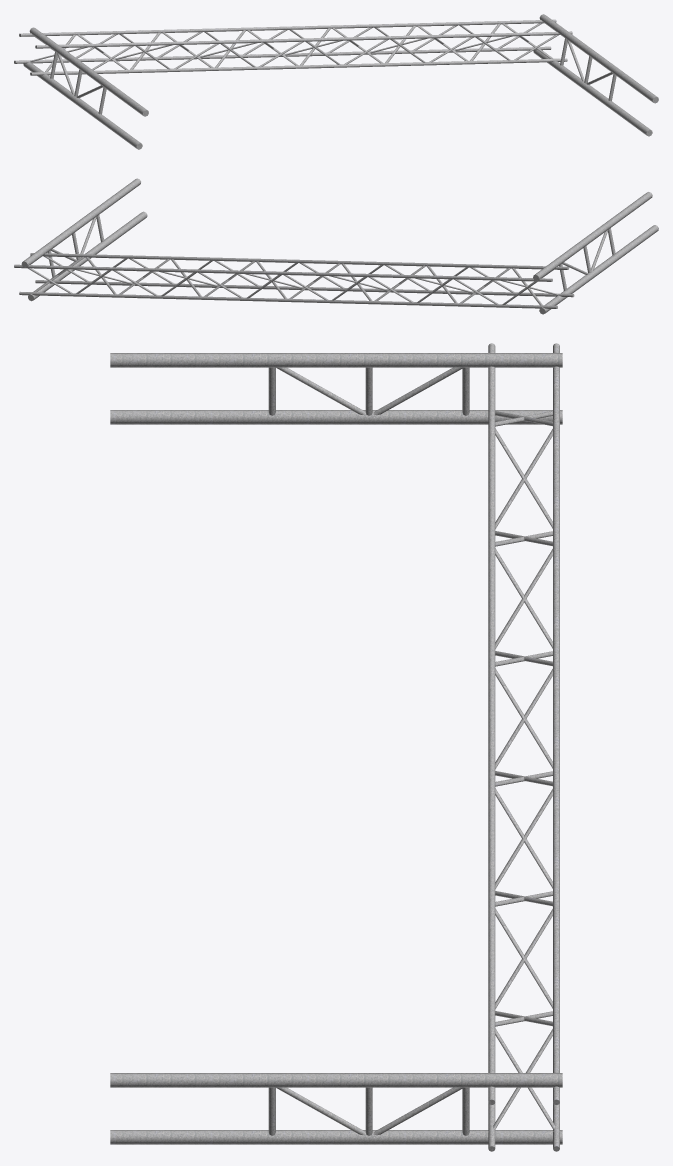
The model's file is _1BRIDGE_AD01_PIRELLI_SUB0_Scene.212.obj.
The picture shows the model from 3 angles, top to bottom: view 1: azimuth 30°, elevation 25°; view 2: azimuth 150°, elevation 25°; view 3: azimuth 270°, elevation 25°; orthographic projection. The views are drawn at different scales.
Parts seen in each view (by area): view 1: _1BRIDGE_AD01_PIRELLI_SUB0_Scene.212; view 2: _1BRIDGE_AD01_PIRELLI_SUB0_Scene.212; view 3: _1BRIDGE_AD01_PIRELLI_SUB0_Scene.212.
Part boxes in pixels (x1,y1,x2,y2): _1BRIDGE_AD01_PIRELLI_SUB0_Scene.212: [14, 14, 658, 149]; _1BRIDGE_AD01_PIRELLI_SUB0_Scene.212: [14, 178, 658, 314]; _1BRIDGE_AD01_PIRELLI_SUB0_Scene.212: [110, 343, 562, 1151].
Bounding box in the file's own units: 19.36 × 5.1 × 7.
